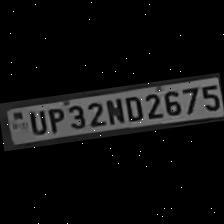2: (141, 92, 164, 119), (84, 100, 106, 128)
3: (63, 102, 85, 130)
5: (197, 82, 223, 113)
6: (158, 88, 182, 116)
7: (180, 85, 200, 115)
D: (121, 92, 144, 122)
N: (102, 96, 125, 126)
P: (44, 105, 65, 133)
U: (24, 108, 46, 136)
